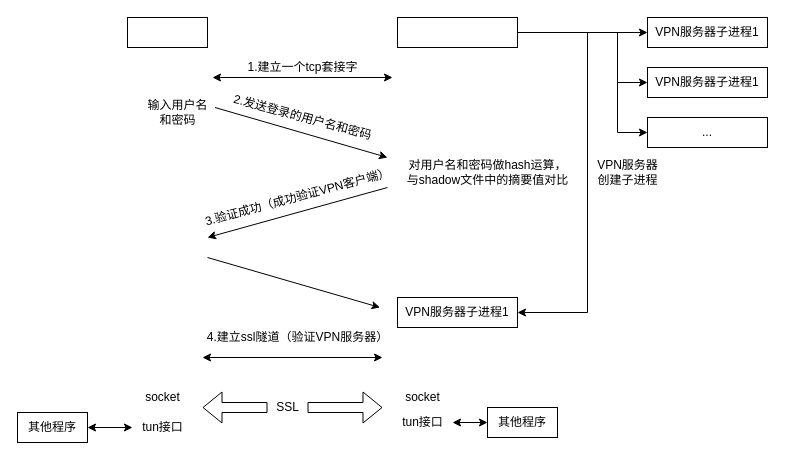
Image size: 785x460. Some labels were removed from this diagram. The shapes that lost their labels are listed below. From the top down, each one's centre as x and y in pixels, then its label:
At (x=167, y=32): "VPN客户端1".
At (x=457, y=32): "VPN服务器父进程".
